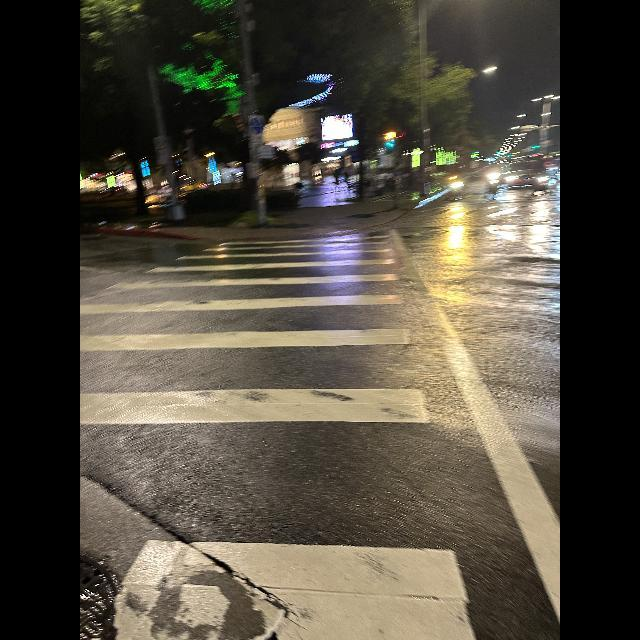sidewalk: (80, 233, 474, 639)
